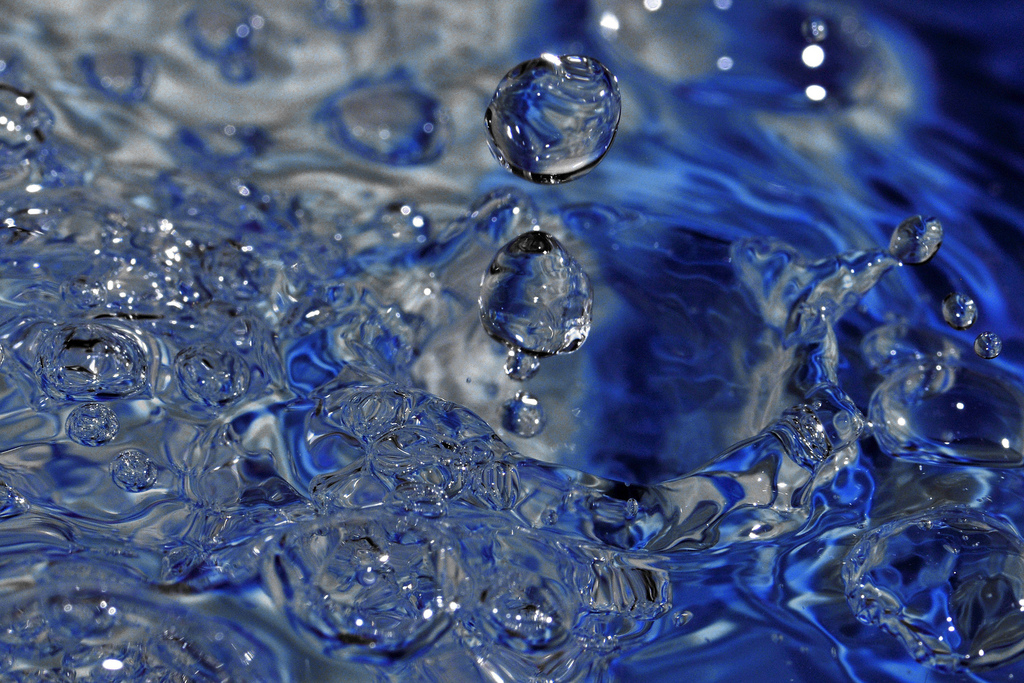glass of water: (6, 12, 1014, 677)
